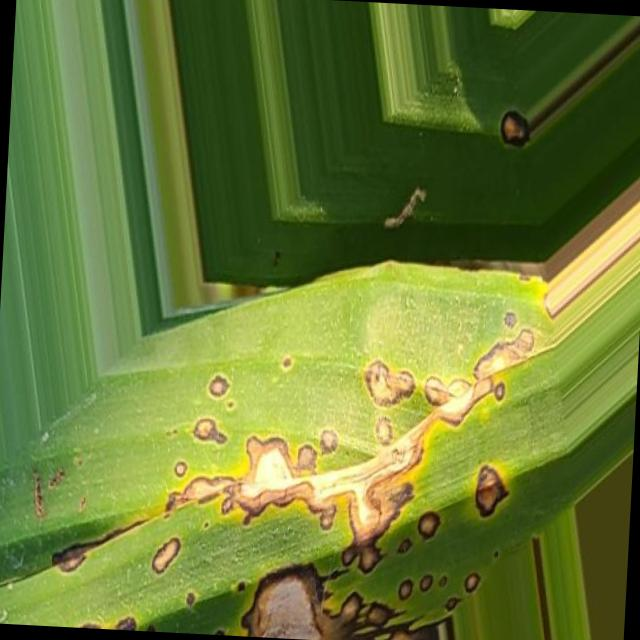Banana_Black_Sigatoka: (126, 297, 577, 640)
